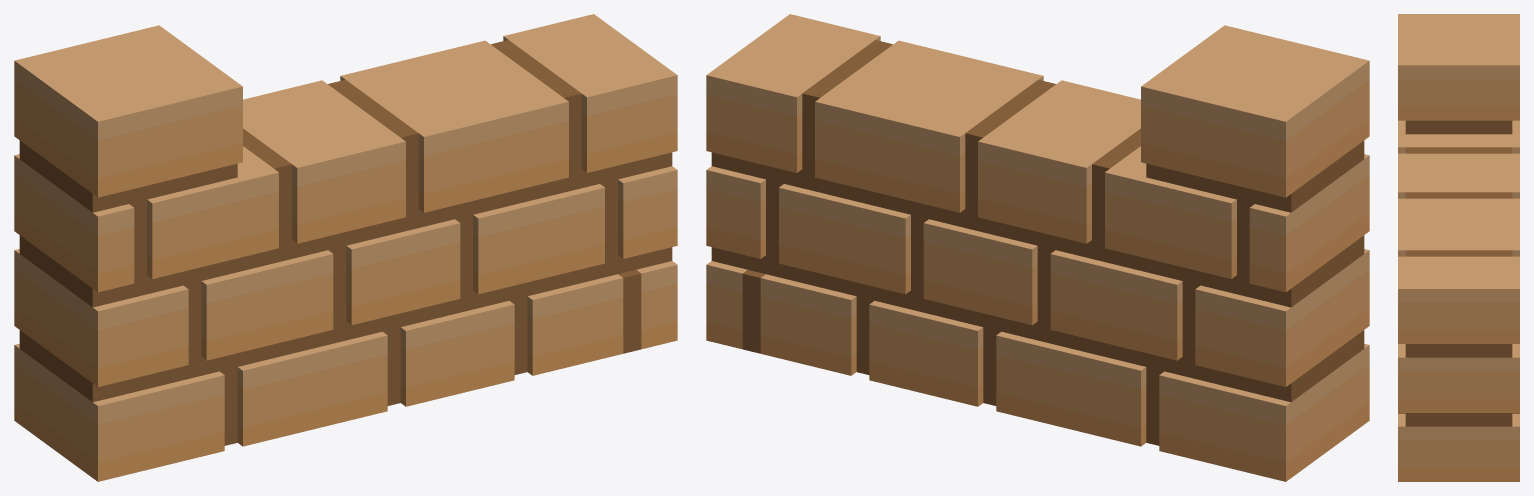
Rendered from DesertBrickWall_4Tall_Broken.fbx.
3 renders of one model, left to right at view 1: azimuth 30°, elevation 25°; view 2: azimuth 150°, elevation 25°; view 3: azimuth 270°, elevation 25°, orthographic. The views are drawn at different scales.
Parts seen in each view (by area): view 1: generated; view 2: generated; view 3: generated.
Part boxes in pixels (x1,y1,x2,y2): generated: (14, 14, 677, 481); generated: (706, 14, 1369, 481); generated: (1398, 14, 1519, 481).
Bounding box in the file's own units: 320 × 190 × 80.
